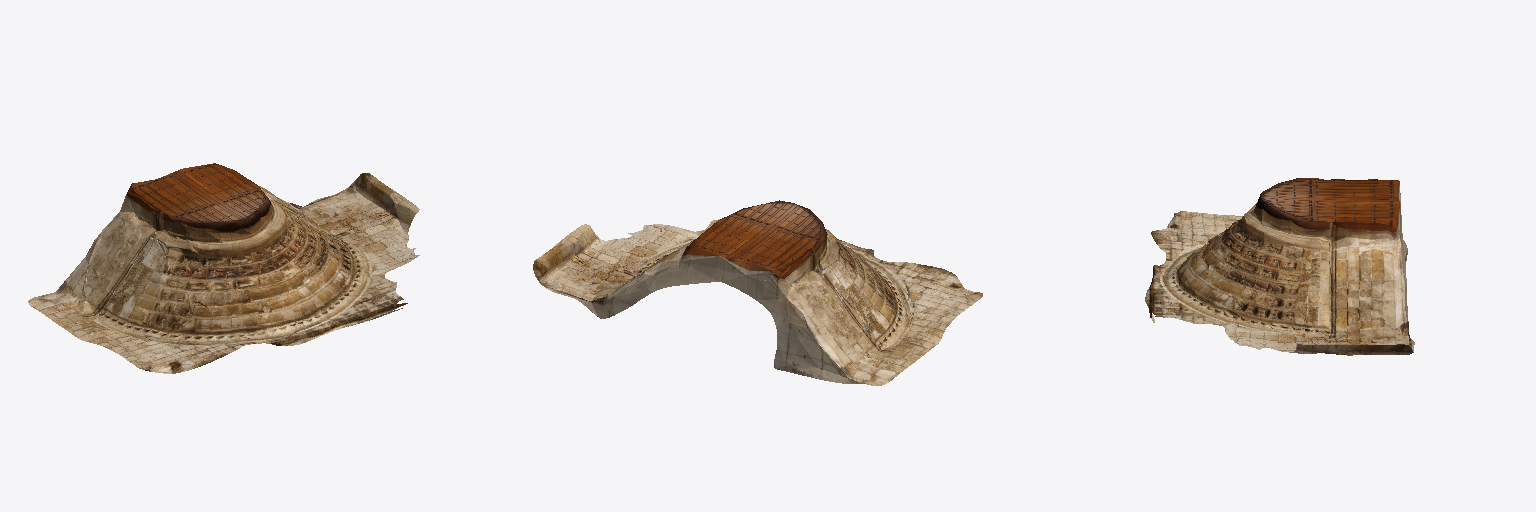
3 renders of one model, left to right at view 1: azimuth 30°, elevation 25°; view 2: azimuth 150°, elevation 25°; view 3: azimuth 270°, elevation 25°, orthographic.
Parts seen in each view (by area): view 1: mmGroup0; view 2: mmGroup0; view 3: mmGroup0.
Part boxes in pixels (x1,y1,x2,y2): mmGroup0: (28,163,419,373); mmGroup0: (533,200,982,385); mmGroup0: (1145,178,1414,355).
Bounding box in the file's own units: 39.85 × 11.13 × 26.56.
2 materials, 2 textured.